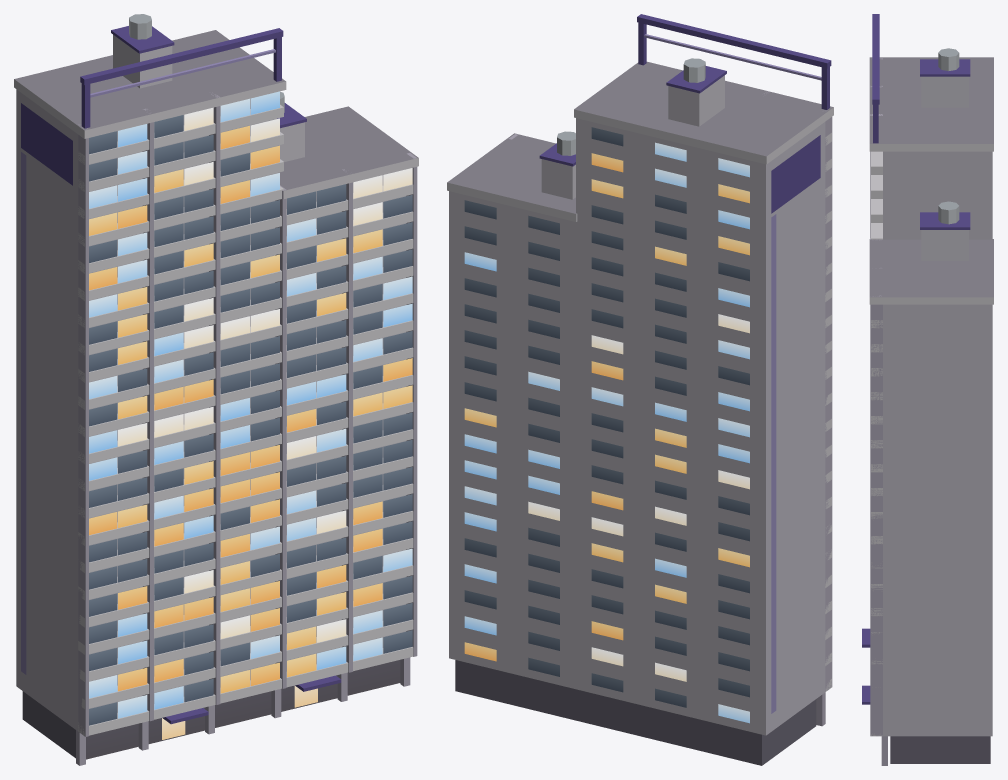
File: bld_apt_D_intact.meshopt.glb
3 renders of one model, left to right at view 1: azimuth 30°, elevation 25°; view 2: azimuth 150°, elevation 25°; view 3: azimuth 270°, elevation 25°, orthographic. The views are drawn at different scales.
Visible parts, largest first — view 1: bld_apt_D_intact; view 2: bld_apt_D_intact; view 3: bld_apt_D_intact.
Part boxes in pixels (x1=…): bld_apt_D_intact: x1=14, y1=14, x2=418, y2=765; bld_apt_D_intact: x1=447, y1=14, x2=833, y2=765; bld_apt_D_intact: x1=862, y1=14, x2=993, y2=765.
Bounding box in the file's own units: 37.3 × 74.1 × 14.45.
